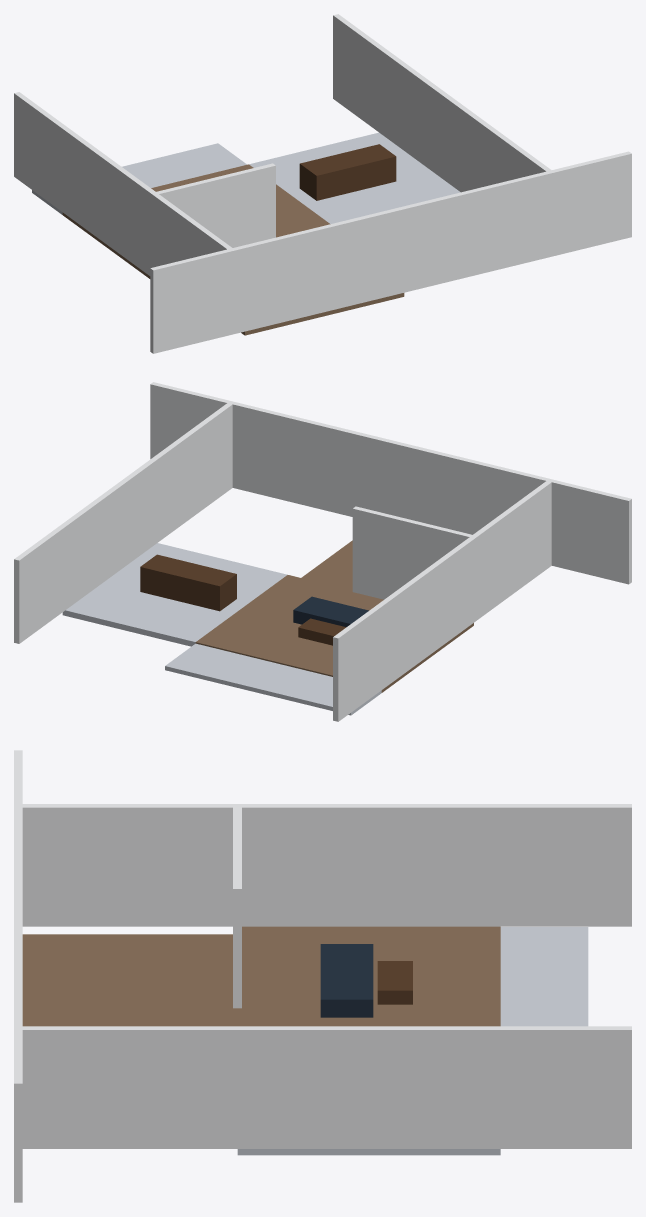
File: modern_apartment.glb
The picture shows the model from 3 angles, top to bottom: view 1: azimuth 30°, elevation 25°; view 2: azimuth 150°, elevation 25°; view 3: azimuth 270°, elevation 25°; orthographic projection. The views are drawn at different scales.
Size of the model in its own units: 18 by 3.2 by 14.1.
